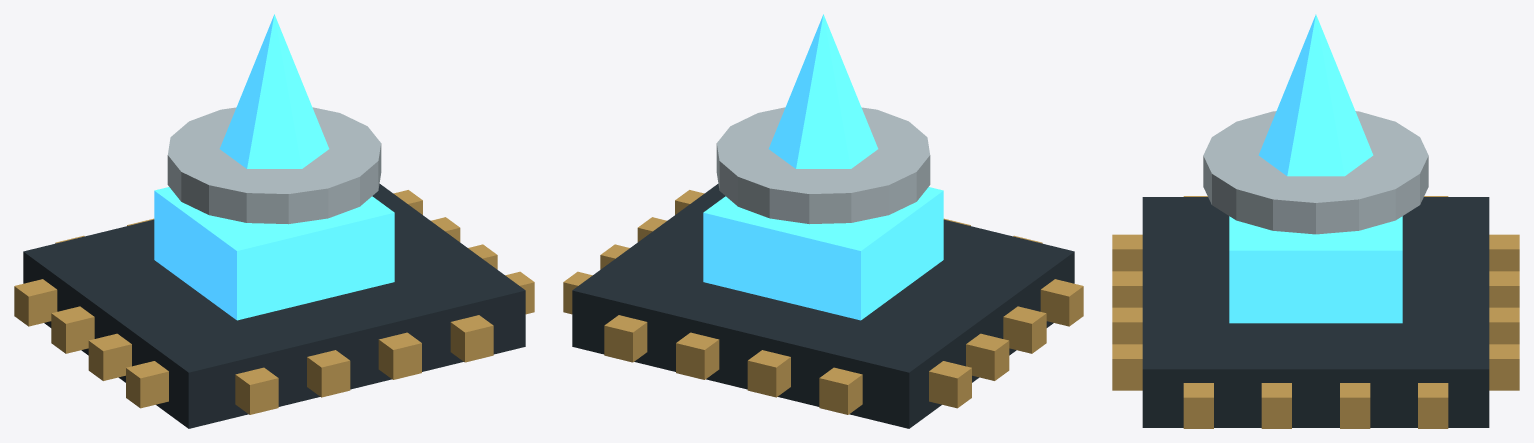
Rendered from plugin-security-support.glb.
The picture shows the model from 3 angles, left to right: view 1: azimuth 30°, elevation 25°; view 2: azimuth 150°, elevation 25°; view 3: azimuth 270°, elevation 25°; orthographic projection. The views are drawn at different scales.
Visible parts, largest first — view 1: plugin circuit substrate, processor block, support crystal ring, support crystal, gold edge connector.008, gold edge connector.009, gold edge connector.011, gold edge connector.010, gold edge connector, gold edge connector.001, gold edge connector.003, gold edge connector.002 (+1 smaller); view 2: plugin circuit substrate, processor block, support crystal ring, support crystal, gold edge connector.012, gold edge connector.013, gold edge connector.015, gold edge connector.014, gold edge connector.003, gold edge connector.002, gold edge connector, gold edge connector.001 (+1 smaller); view 3: plugin circuit substrate, support crystal ring, processor block, support crystal, gold edge connector.011, gold edge connector.015, gold edge connector.004, gold edge connector.005, gold edge connector.006, gold edge connector.007, gold edge connector.008, gold edge connector.010 (+4 smaller).
Boxes of the visible parts, x1=… form: plugin circuit substrate: x1=23, y1=184, x2=525, y2=428; processor block: x1=154, y1=187, x2=394, y2=320; support crystal ring: x1=167, y1=107, x2=381, y2=224; support crystal: x1=219, y1=14, x2=329, y2=168; gold edge connector.008: x1=235, y1=367, x2=278, y2=414; gold edge connector.009: x1=307, y1=350, x2=350, y2=397; gold edge connector.011: x1=450, y1=315, x2=493, y2=362; gold edge connector.010: x1=378, y1=332, x2=421, y2=379; gold edge connector: x1=126, y1=361, x2=168, y2=408; gold edge connector.001: x1=88, y1=333, x2=131, y2=380; gold edge connector.003: x1=14, y1=279, x2=57, y2=326; gold edge connector.002: x1=51, y1=306, x2=94, y2=353; plugin circuit substrate: x1=572, y1=184, x2=1074, y2=428; processor block: x1=703, y1=187, x2=943, y2=320; support crystal ring: x1=716, y1=107, x2=930, y2=224; support crystal: x1=768, y1=14, x2=878, y2=168; gold edge connector.012: x1=819, y1=367, x2=862, y2=414; gold edge connector.013: x1=747, y1=350, x2=790, y2=397; gold edge connector.015: x1=604, y1=315, x2=647, y2=362; gold edge connector.014: x1=676, y1=332, x2=719, y2=379; gold edge connector.003: x1=929, y1=361, x2=971, y2=408; gold edge connector.002: x1=966, y1=333, x2=1009, y2=380; gold edge connector: x1=1040, y1=279, x2=1083, y2=326; gold edge connector.001: x1=1003, y1=306, x2=1046, y2=353; plugin circuit substrate: x1=1142, y1=197, x2=1489, y2=427; support crystal ring: x1=1203, y1=111, x2=1428, y2=234; processor block: x1=1229, y1=216, x2=1402, y2=323; support crystal: x1=1258, y1=14, x2=1373, y2=176; gold edge connector.011: x1=1112, y1=344, x2=1142, y2=390; gold edge connector.015: x1=1489, y1=344, x2=1519, y2=390; gold edge connector.004: x1=1183, y1=383, x2=1213, y2=428; gold edge connector.005: x1=1261, y1=383, x2=1291, y2=428; gold edge connector.006: x1=1340, y1=383, x2=1370, y2=428; gold edge connector.007: x1=1418, y1=383, x2=1448, y2=428; gold edge connector.008: x1=1112, y1=234, x2=1142, y2=271; gold edge connector.010: x1=1112, y1=307, x2=1142, y2=344.
Size of the model in its own units: 1.1 by 0.835 by 0.94.
